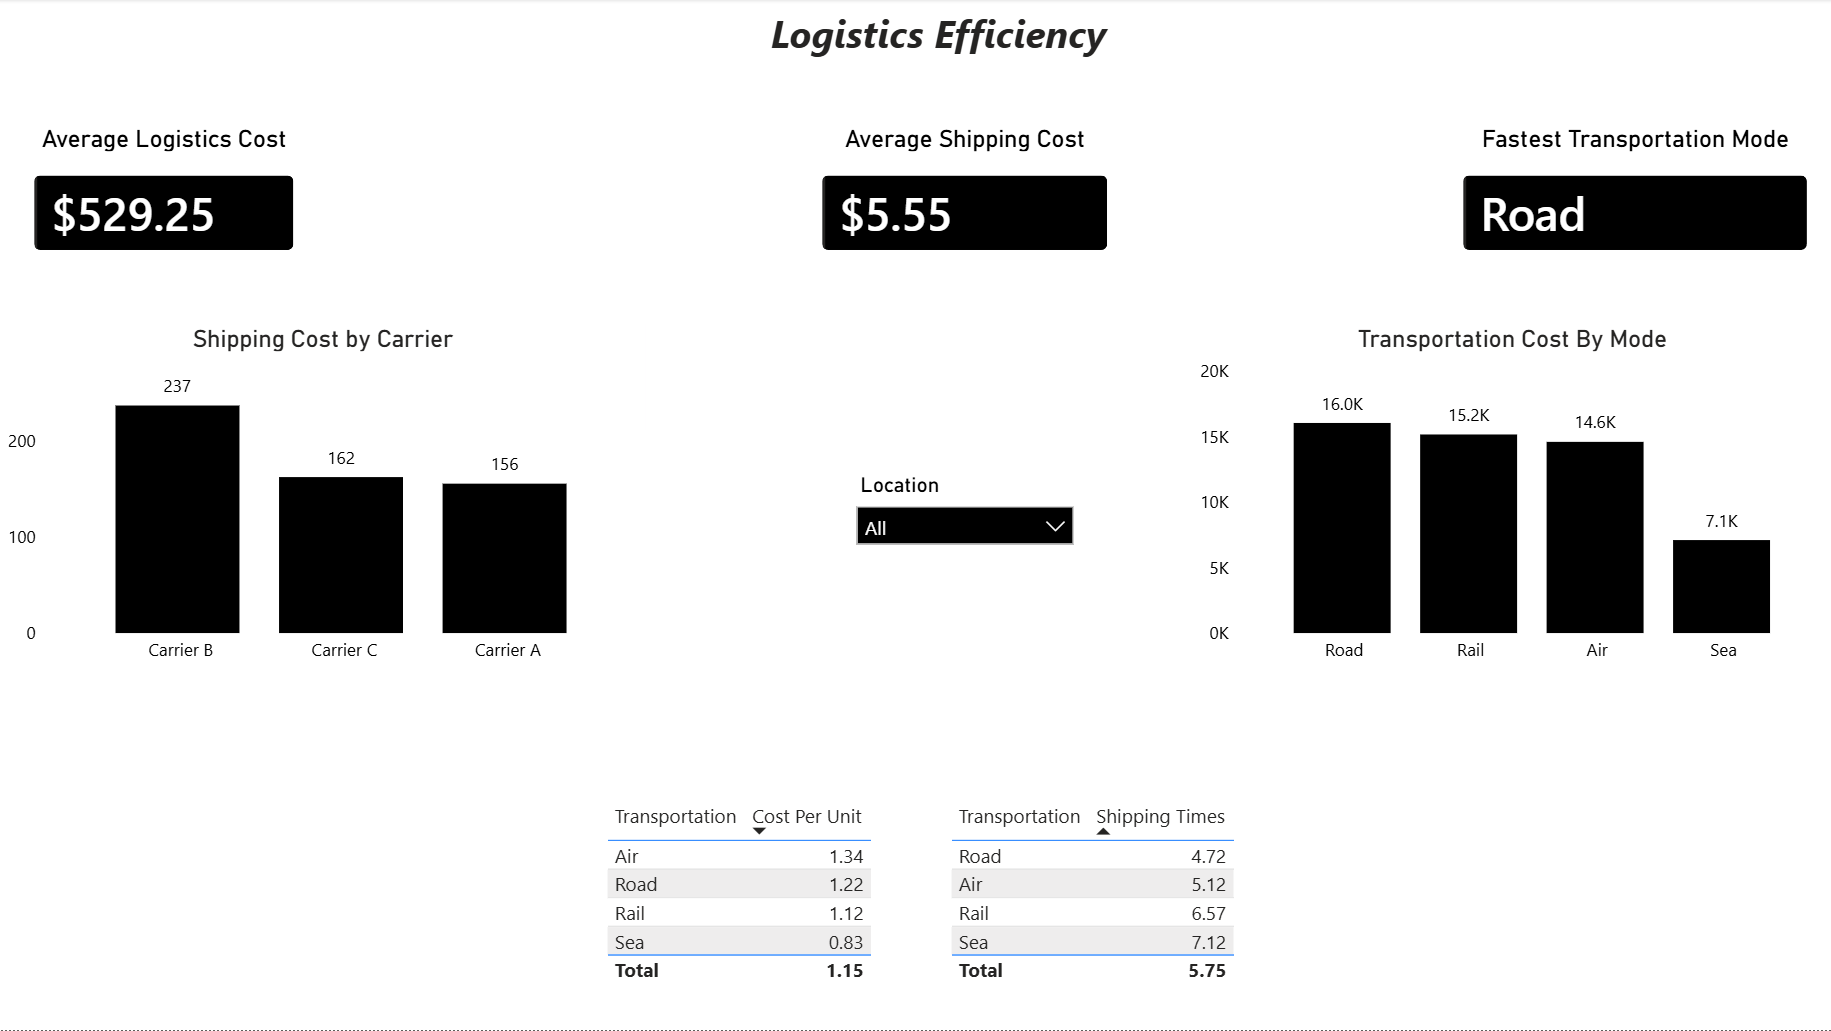

Layout of this report page (visuals, bound fields, positions):
{"tool":"powerbi","page":{"name":"Logistics Efficiency","canvas":[1280,720],"ordinal":3},"visuals":[{"type":"textbox","box":[526.1,0,264.8,67.1],"z":0},{"type":"cardVisual","title":"Average Logistics Cost","fields":{"Data":["Avg(supplychain_db supply.Logistics_Cost)"]},"box":[7,87.3,215.2,105.5],"z":1},{"type":"cardVisual","title":"Average Shipping Cost","fields":{"Data":["Avg(supplychain_db supply.Shipping_costs)"]},"box":[557.6,87.3,233.4,105.5],"z":2},{"type":"cardVisual","title":"Fastest Transportation Mode","fields":{"Data":["supplychain_db supply.Fastest Transportation Mode"]},"box":[1005.4,87.3,274.6,105.5],"z":3},{"type":"tableEx","fields":{"Values":["supplychain_db supply.Transportation_models","Avg(supplychain_db supply.Shipping_times)"]},"box":[658.9,555.5,220.1,138.3],"z":4},{"type":"columnChart","title":"Transportation Cost By Mode","fields":{"Category":["supplychain_db supply.Transportation_models"],"Y":["Sum(supplychain_db supply.Logistics_Cost)"]},"box":[833.5,227.1,446.5,245.9],"z":5},{"type":"columnChart","title":"Shipping Cost by Carrier","fields":{"Y":["Sum(supplychain_db supply.Shipping_costs)"],"Category":["supplychain_db supply.Shipping_carriers"]},"box":[0,227.1,451.4,245.9],"z":6},{"type":"tableEx","fields":{"Values":["supplychain_db supply.Transportation_models","supplychain_db supply.Transportation Cost Per Unit"]},"box":[418.5,555.5,215.2,138.3],"z":7},{"type":"slicer","fields":{"Values":["supplychain_db supply.Location"]},"box":[588.3,326.3,171.9,67.1],"z":8}]}

Visuals, with their boxes in screenshot pixels (x1, y1, x2, y2), scaled from the page's 1280x720 canvas onto the 1831x1031 screenshot:
textbox: <box>753,0,1131,96</box>
"Average Logistics Cost" cardVisual: <box>10,125,318,276</box>
"Average Shipping Cost" cardVisual: <box>798,125,1132,276</box>
"Fastest Transportation Mode" cardVisual: <box>1438,125,1830,276</box>
tableEx - supplychain_db supply.Transportation_models x Avg(supplychain_db supply.Shipping_times): <box>943,795,1257,993</box>
"Transportation Cost By Mode" columnChart: <box>1192,325,1830,677</box>
"Shipping Cost by Carrier" columnChart: <box>0,325,646,677</box>
tableEx - supplychain_db supply.Transportation_models x supplychain_db supply.Transportation Cost Per Unit: <box>599,795,906,993</box>
slicer - supplychain_db supply.Location: <box>842,467,1087,563</box>
